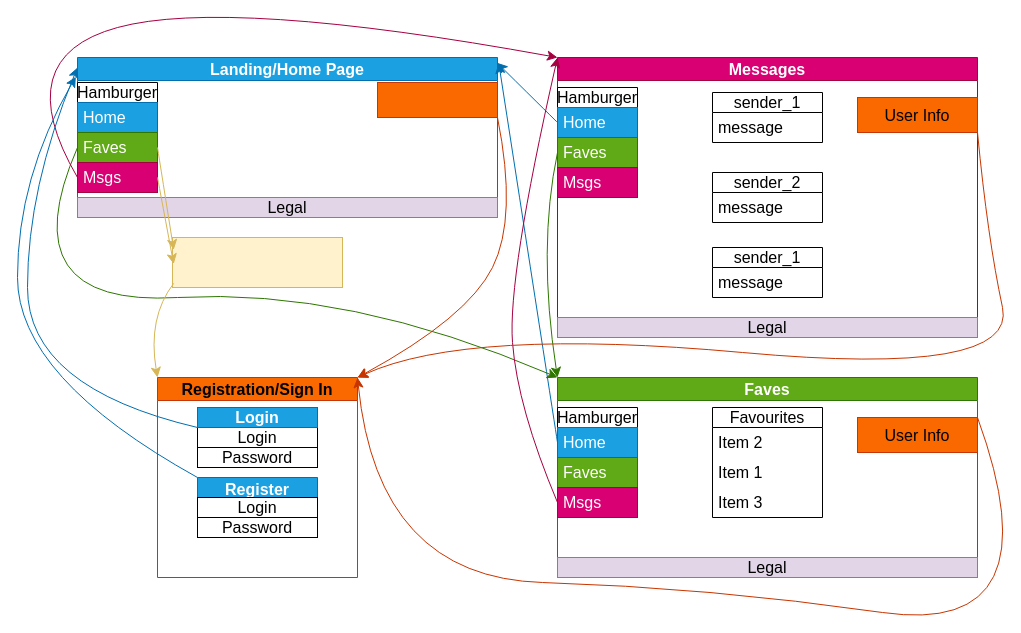
Image size: 1021x633. Some labels were removed from this diagram. Here are the shapes that lost their labels. From the top down, the centre of each, then its label:
the point at 437,100: Login/Signup/ User Info
the point at 257,262: IF user is not logged in, Redirect to login page
